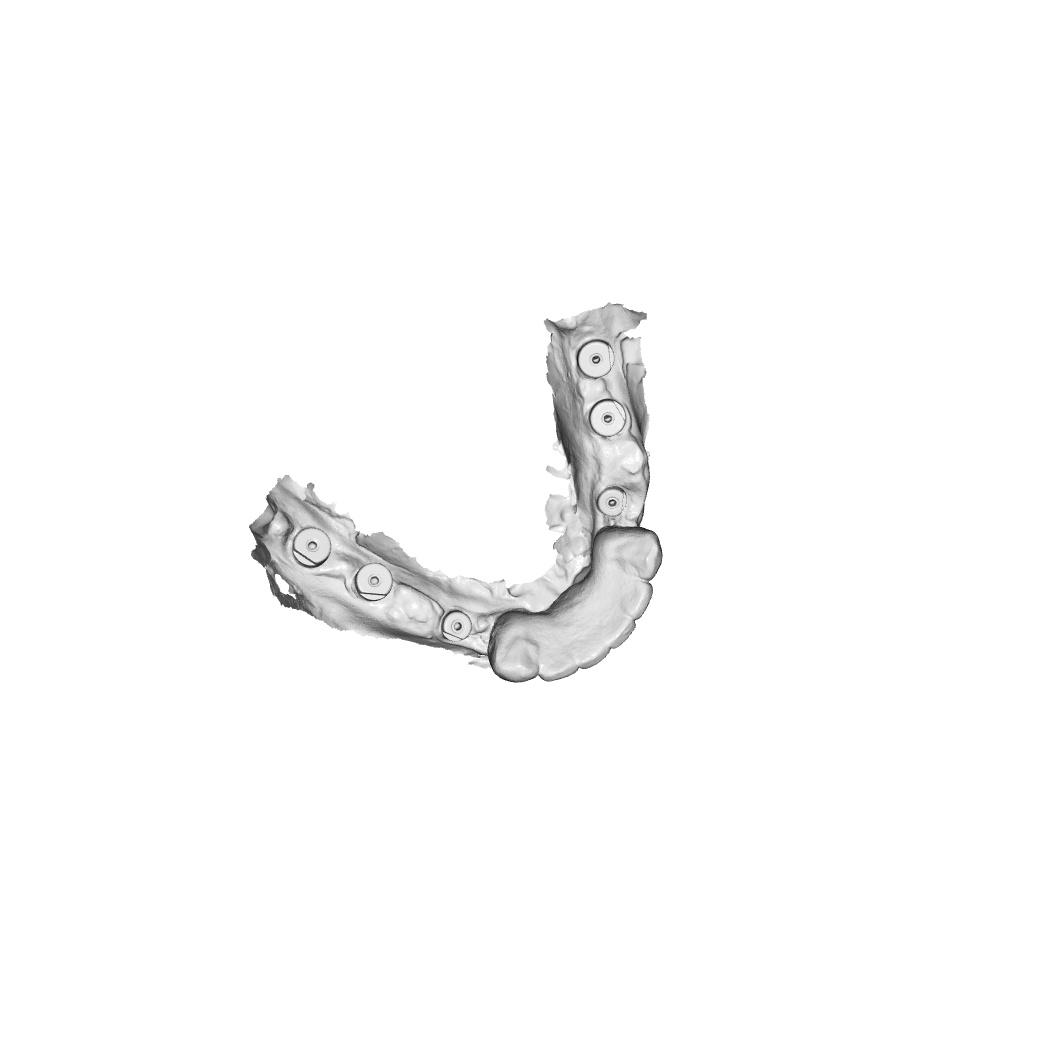canine: (487, 620, 539, 683), (612, 526, 663, 582)
implant: (290, 526, 332, 568), (587, 398, 628, 439), (576, 338, 616, 380), (355, 562, 393, 602), (596, 485, 628, 518), (441, 610, 473, 643)
incisor: (538, 640, 580, 684), (616, 579, 654, 621), (596, 613, 637, 650), (575, 636, 612, 670)
